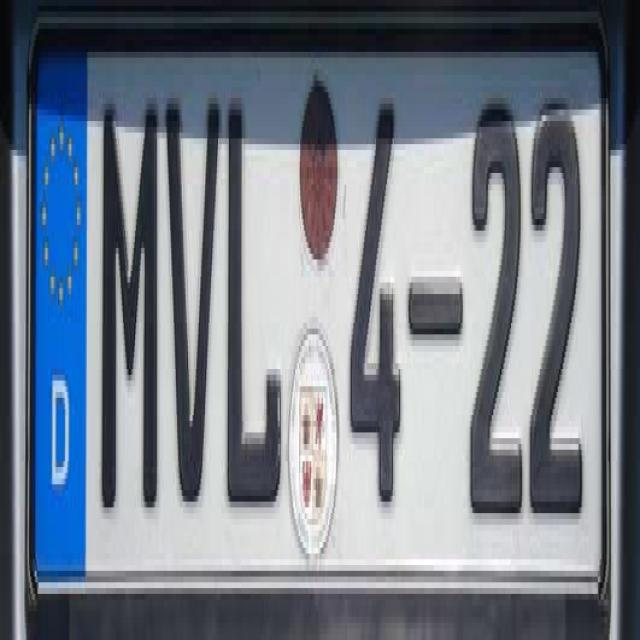Allemagne: (37, 46, 84, 564)
EU: (32, 14, 614, 608)
